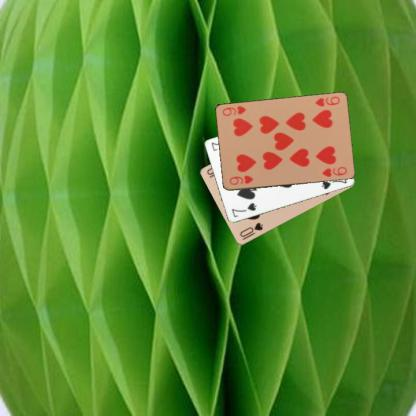10s: (238, 220, 264, 242)
7s: (228, 200, 258, 219)
9h: (312, 94, 341, 108), (227, 173, 254, 186)
